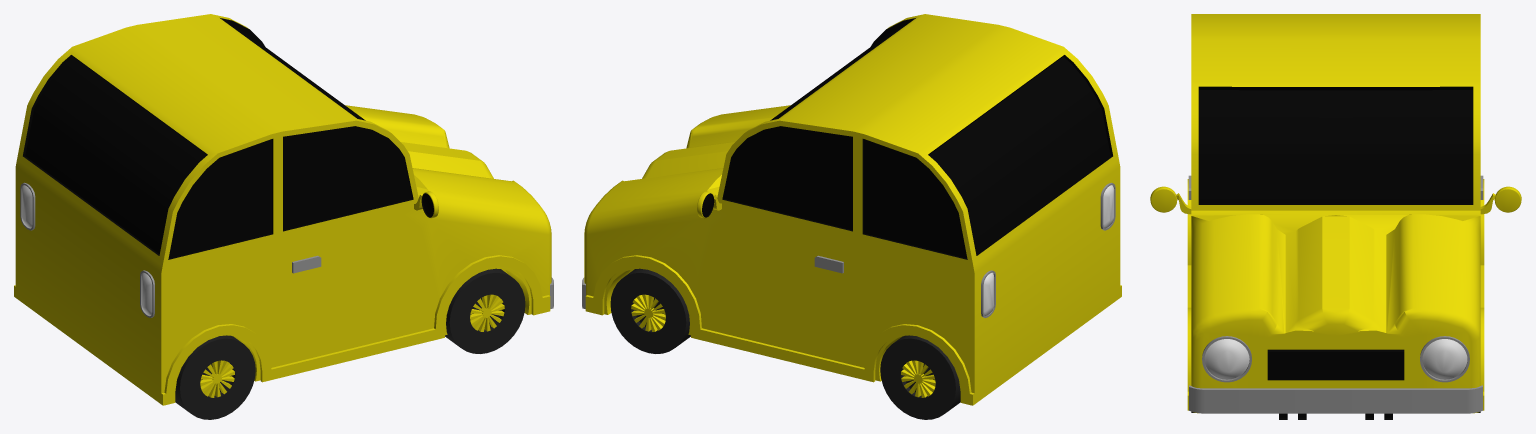
File: car4l.fbx
3 renders of one model, left to right at view 1: azimuth 30°, elevation 25°; view 2: azimuth 150°, elevation 25°; view 3: azimuth 270°, elevation 25°, orthographic.
Parts seen in each view (by area): view 1: car4l; view 2: car4l; view 3: car4l.
Part boxes in pixels (x1,y1,x2,y2): car4l: [14, 14, 553, 419]; car4l: [582, 14, 1121, 419]; car4l: [1150, 14, 1521, 419].
Bounding box in the file's own units: 678 × 436 × 543.
